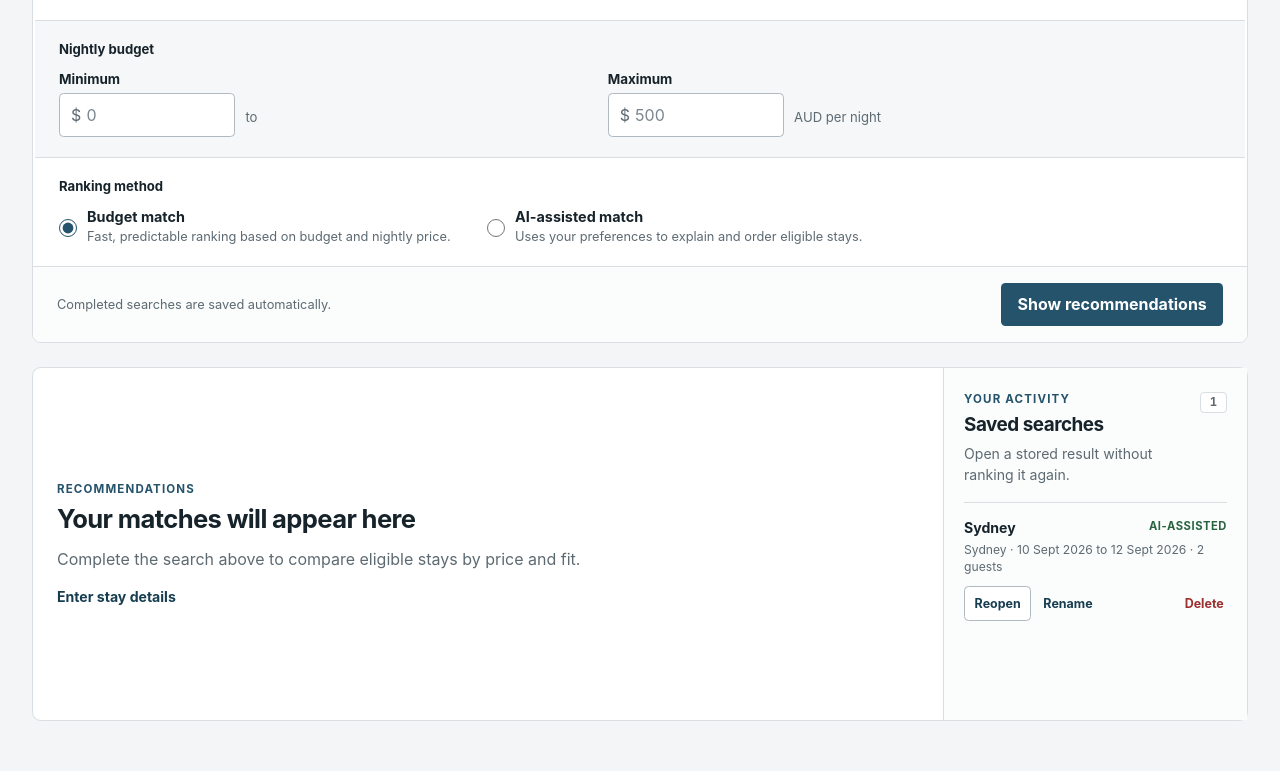
it: App › offers an agent review for an opened search only when the deployment enables it
The width and height of the screenshot is (1280, 771).
(page scrolled)
Click the button "Reopen" at (998, 603), box [964, 586, 1031, 621]
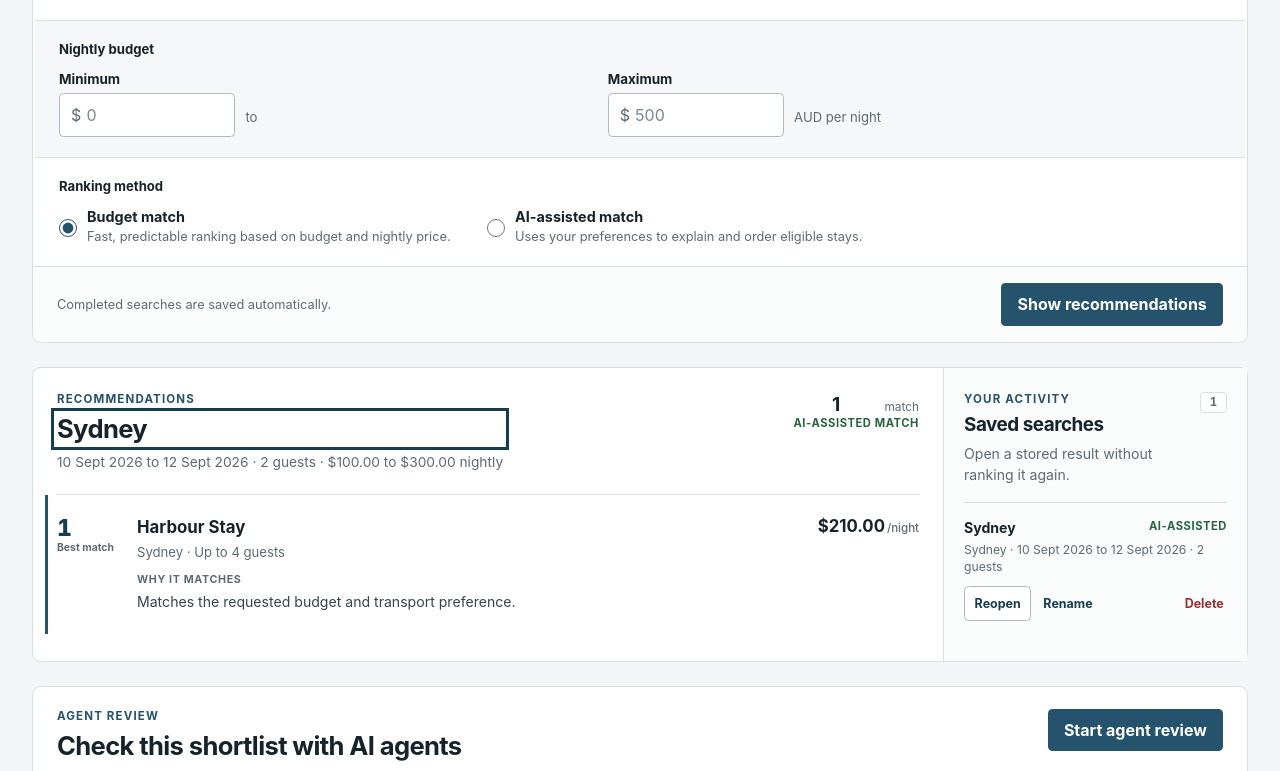
Check: the heading with id "review-heading" reads "Check this shortlist with AI agents", box [57, 730, 462, 761]
